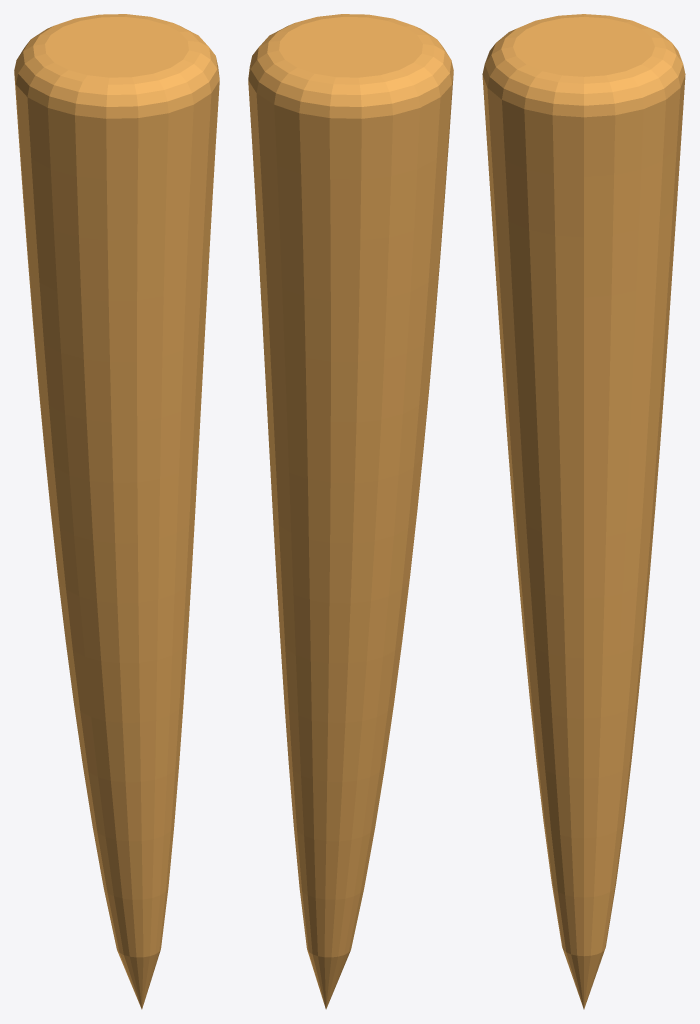
Rendered from carrot_v11.glb.
3 renders of one model, left to right at view 1: azimuth 30°, elevation 25°; view 2: azimuth 150°, elevation 25°; view 3: azimuth 270°, elevation 25°, orthographic.
Parts seen in each view (by area): view 1: root; view 2: root; view 3: root.
Boxes of the visible parts, <box> form: root: <box>14,14,219,1009</box>; root: <box>248,14,453,1009</box>; root: <box>482,14,685,1009</box>.
Size of the model in its own units: 0.0334 by 0.1726 by 0.0334.
